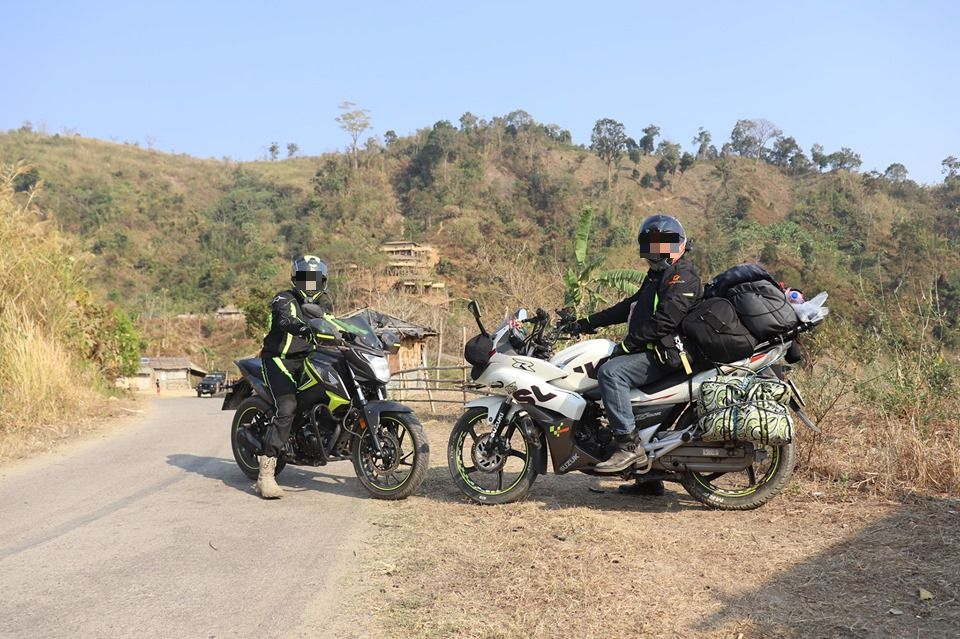bike: (447, 300, 804, 513), (216, 299, 428, 502)
